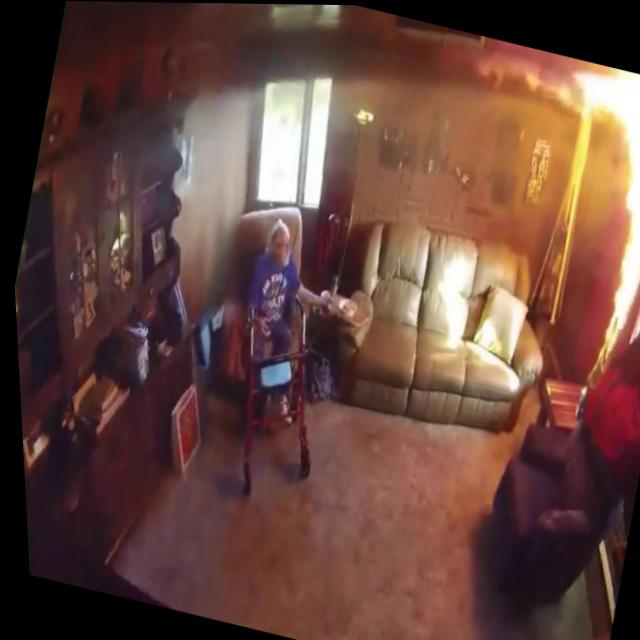fire: (582, 78, 640, 371), (520, 46, 640, 139)
